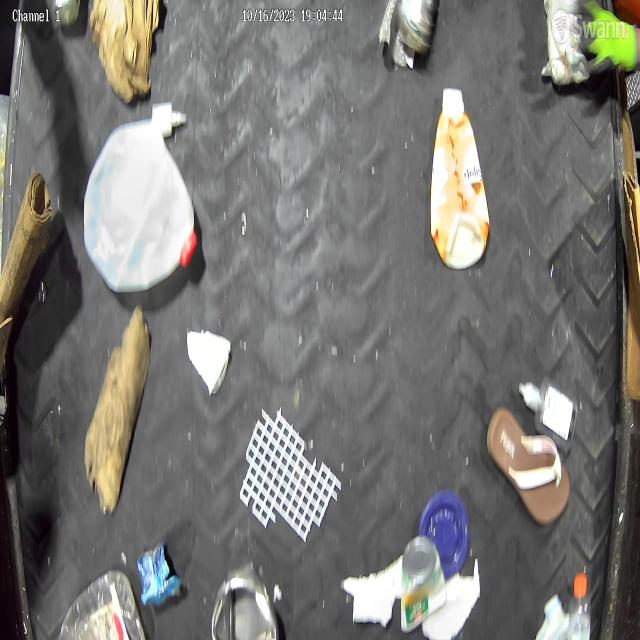can: (209, 560, 280, 640), (400, 532, 447, 634)
milk_jug: (83, 120, 199, 297), (535, 592, 568, 640)
non_white_jug: (429, 85, 491, 272)
plastic_bottle: (58, 567, 148, 640), (567, 571, 591, 640)
